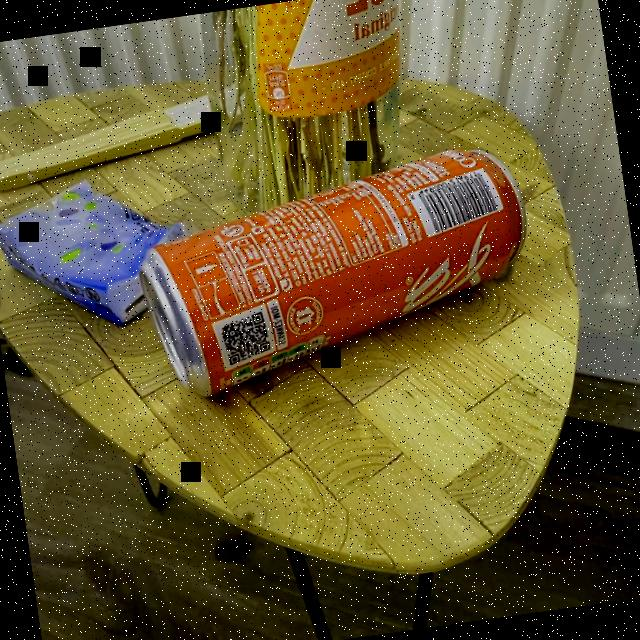can: (128, 138, 548, 408)
